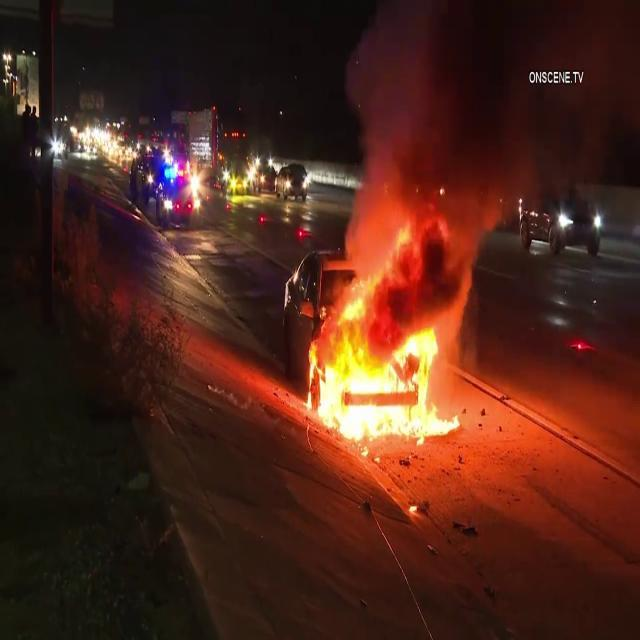Fire: (304, 298, 446, 452)
Smoke: (333, 0, 550, 296)
